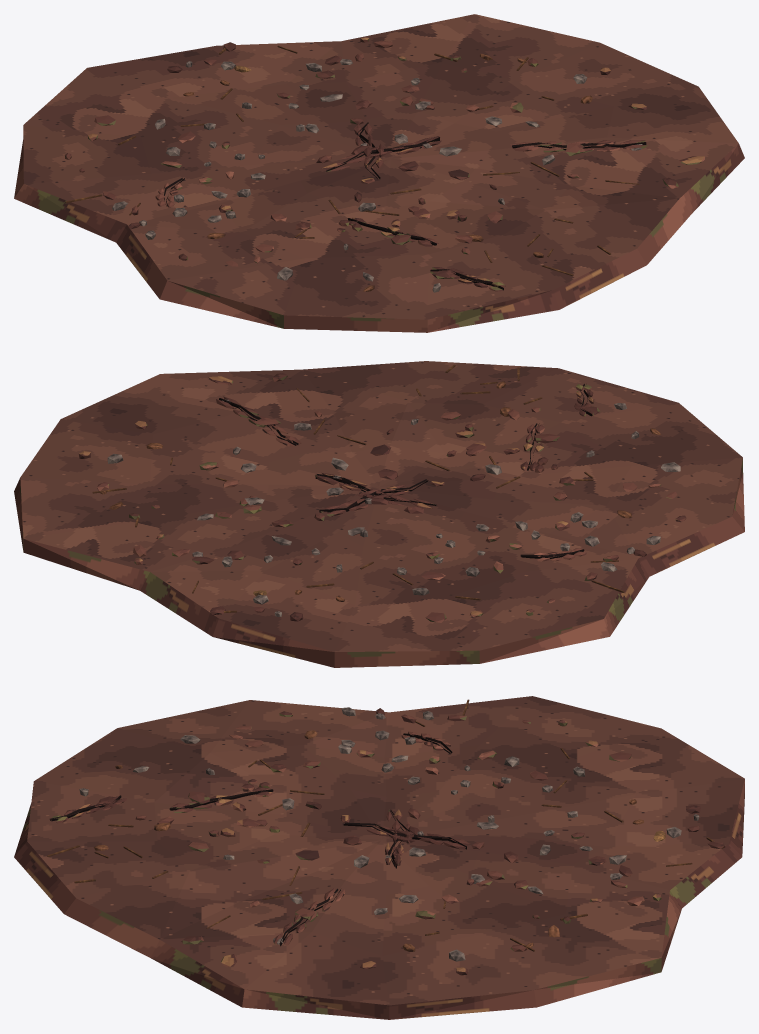
Rendered from SM_AN06b_EarthFloorPatch.fbx.
3 renders of one model, top to bottom at view 1: azimuth 30°, elevation 25°; view 2: azimuth 150°, elevation 25°; view 3: azimuth 270°, elevation 25°, orthographic. The views are drawn at different scales.
Parts seen in each view (by area): view 1: AN06b_Floor, AN06b_Earth, AN06b_Props; view 2: AN06b_Floor, AN06b_Earth, AN06b_Props; view 3: AN06b_Floor, AN06b_Earth, AN06b_Props.
Boxes of the visible parts, x1,y1,x2,y2 form: AN06b_Floor: (23, 14, 738, 319); AN06b_Earth: (14, 37, 744, 332); AN06b_Props: (65, 45, 646, 292); AN06b_Floor: (20, 361, 742, 651); AN06b_Earth: (14, 373, 744, 667); AN06b_Props: (92, 364, 680, 616); AN06b_Floor: (27, 696, 744, 1005); AN06b_Earth: (14, 708, 744, 1019); AN06b_Props: (47, 699, 723, 961).
Bounding box in the file's own units: 3.94 × 0.1658 × 3.89.
